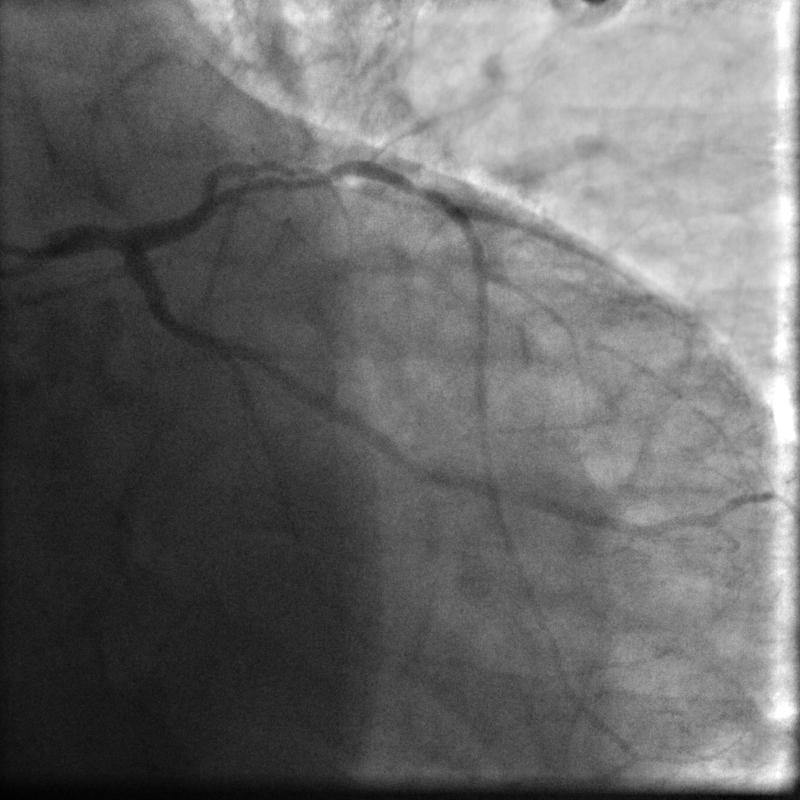Stenosis: (287, 158, 378, 183)
